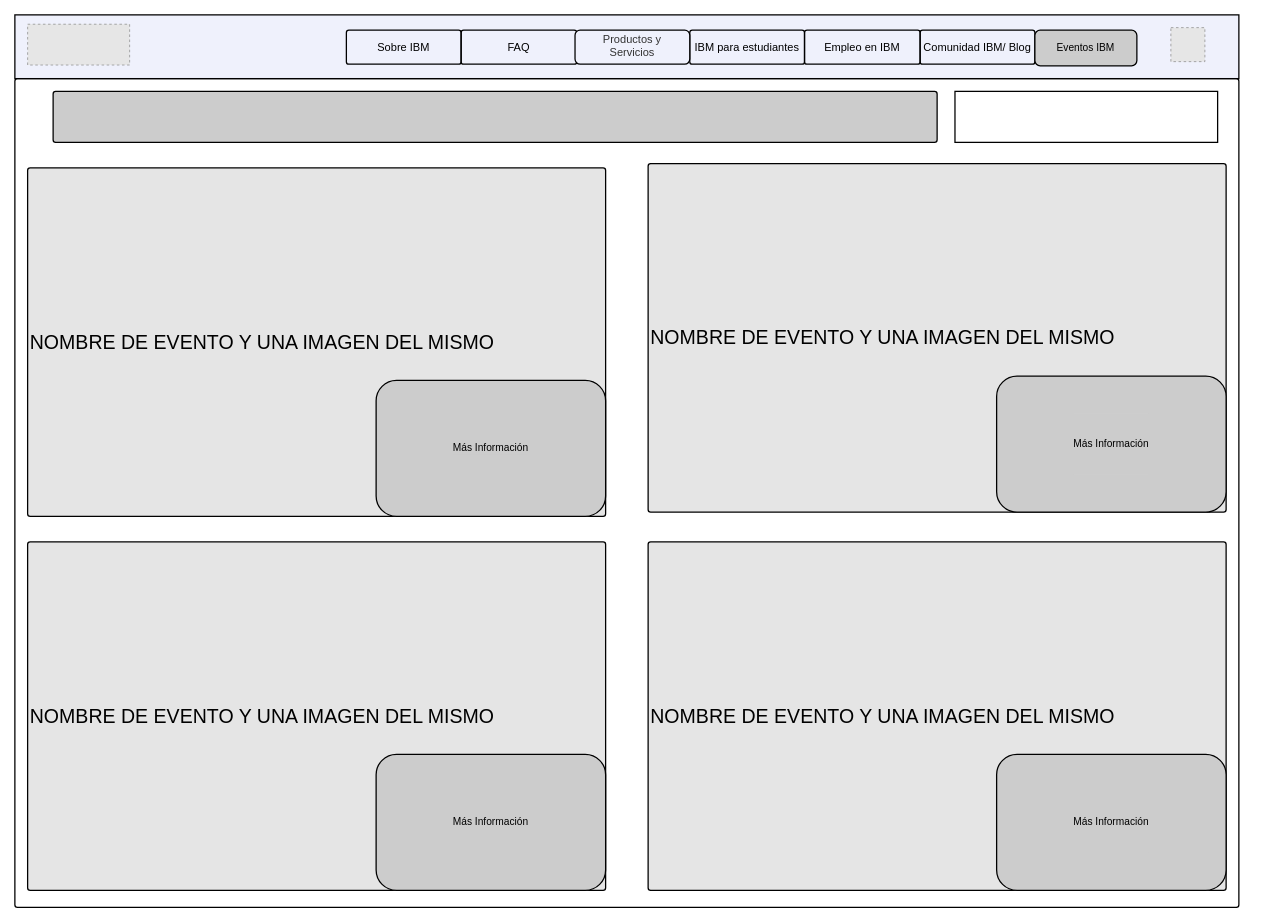
The diagram is 1274 pixels wide and 923 high, and some of its shapes have lost their labels. Grey dashed boxes stand in for pictures. The shapes that lost their labels are listed below. From the top down, each one's centre as x and y in pixels, then its label:
[1190,65]: Iniciar sesión
[494,116]: Evento más Proximo
[1086,116]: Inscríbete aquí
